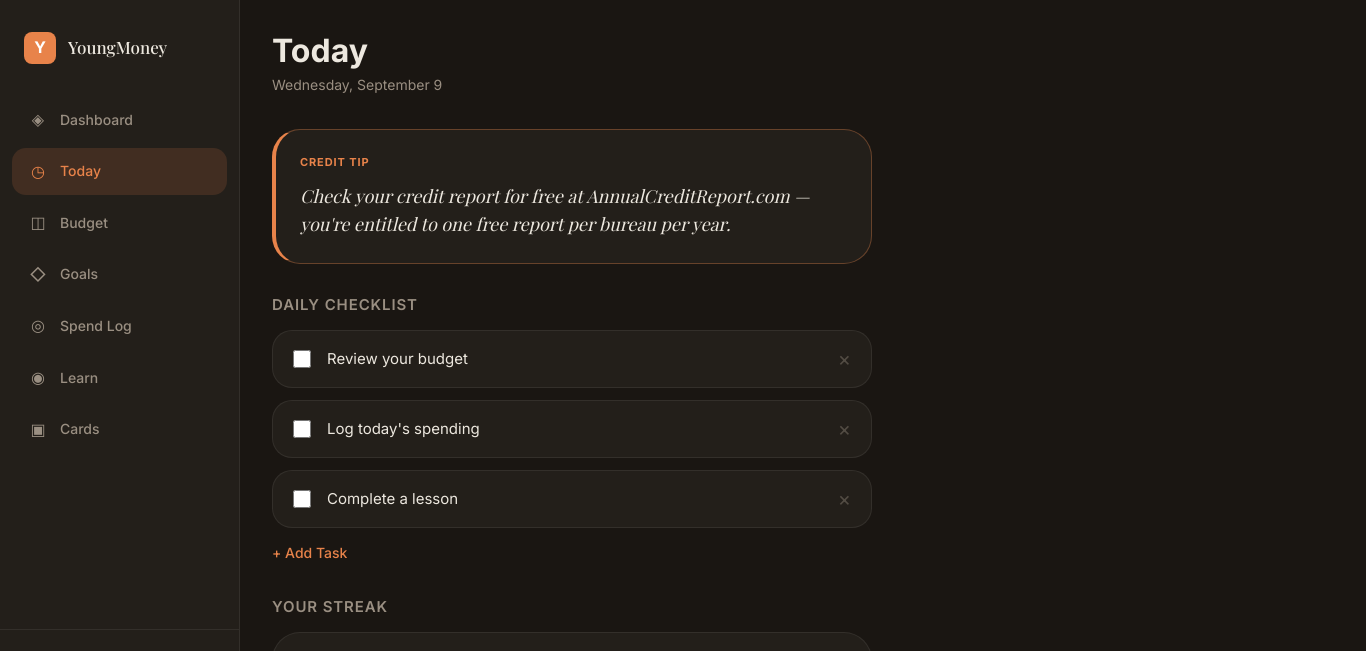
Scenario: YoungMoney Main App Pages › allows user to add a new task
Click the button "+ Add Task".
click(310, 553)  # box [272, 540, 347, 565]
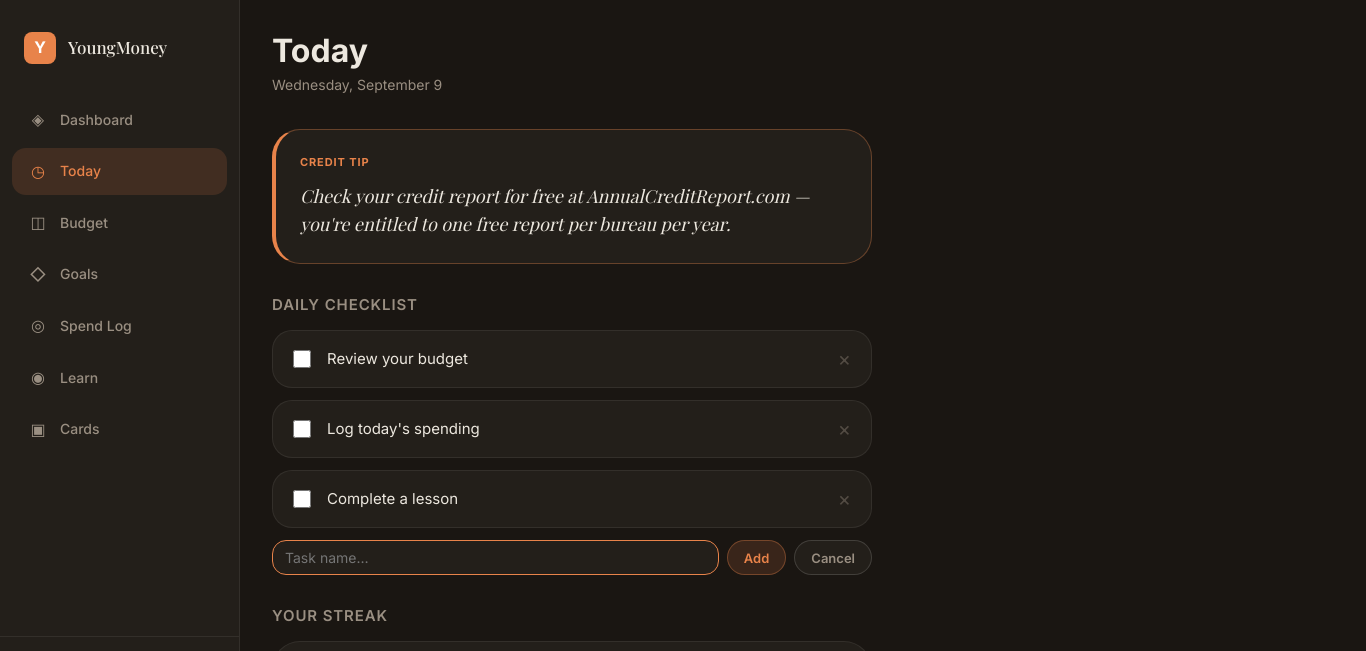
Type "Check credit card balance" into the field with class "today__add-input".
click(496, 558); type("Check credit card balance")  # box [272, 540, 719, 575]
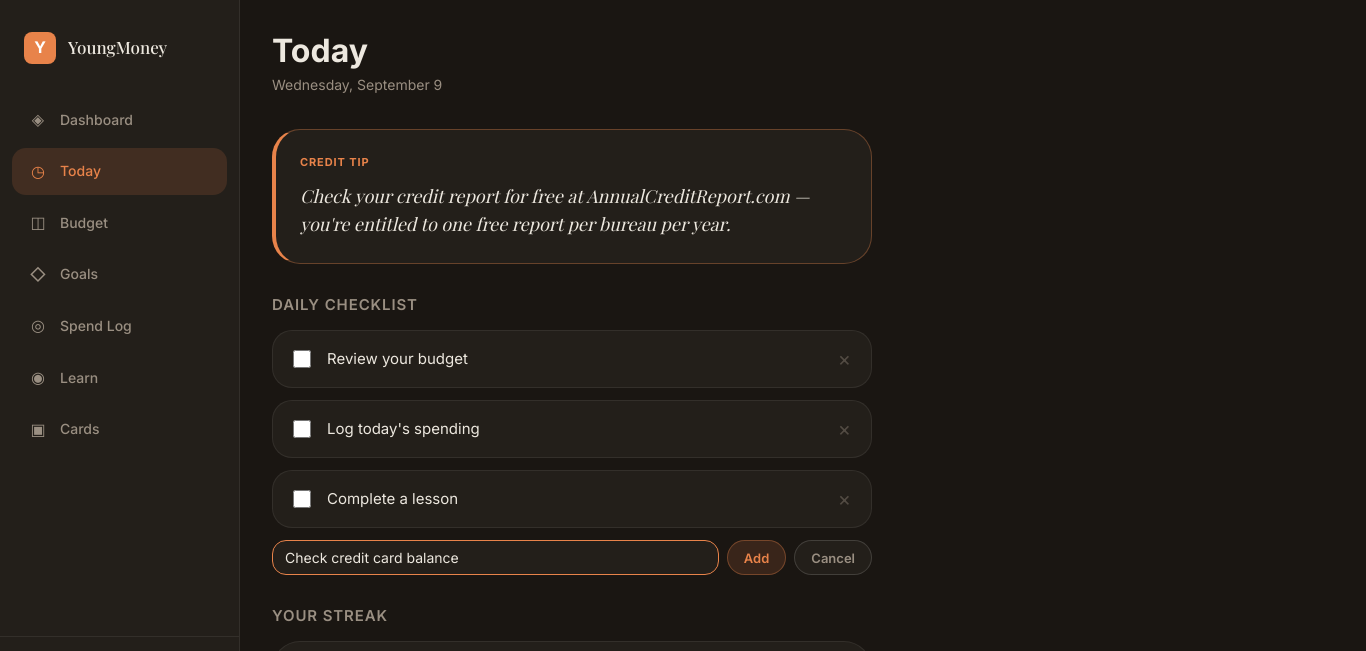
Click the button "Add".
click(757, 558)  # box [727, 540, 787, 575]
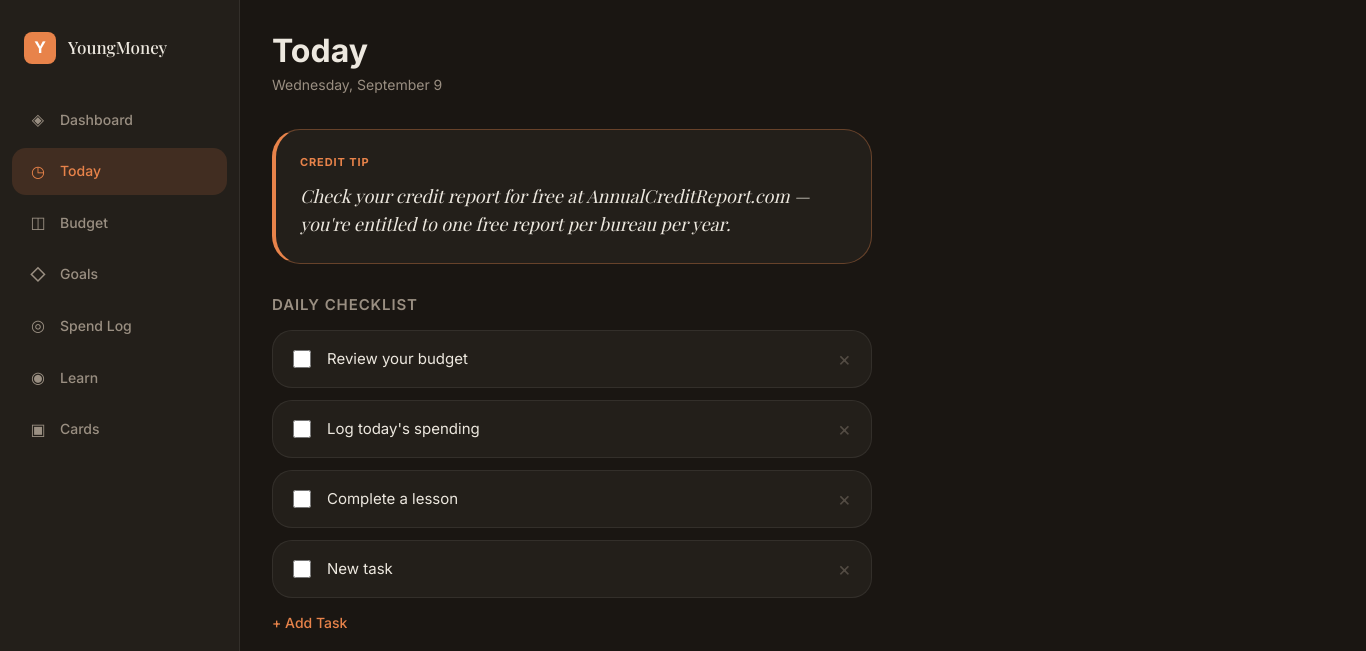
Check: the text "New task" is shown, box [293, 559, 393, 578]
